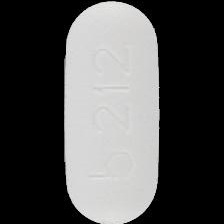0093-7392: (0, 0, 224, 224)
